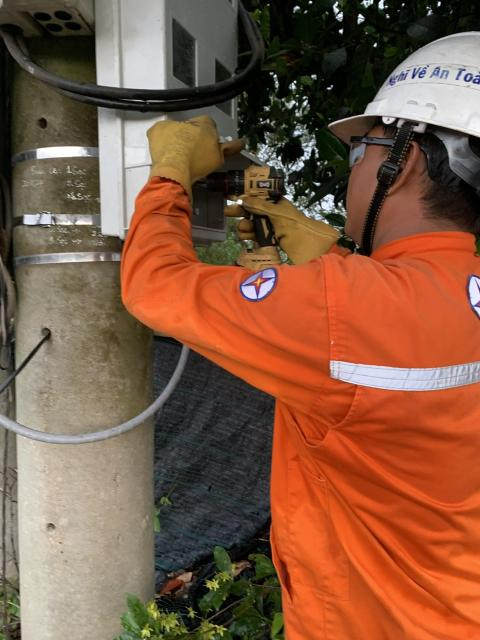gloves: (225, 164, 345, 265), (129, 106, 245, 201)
helmet: (314, 4, 480, 182)
